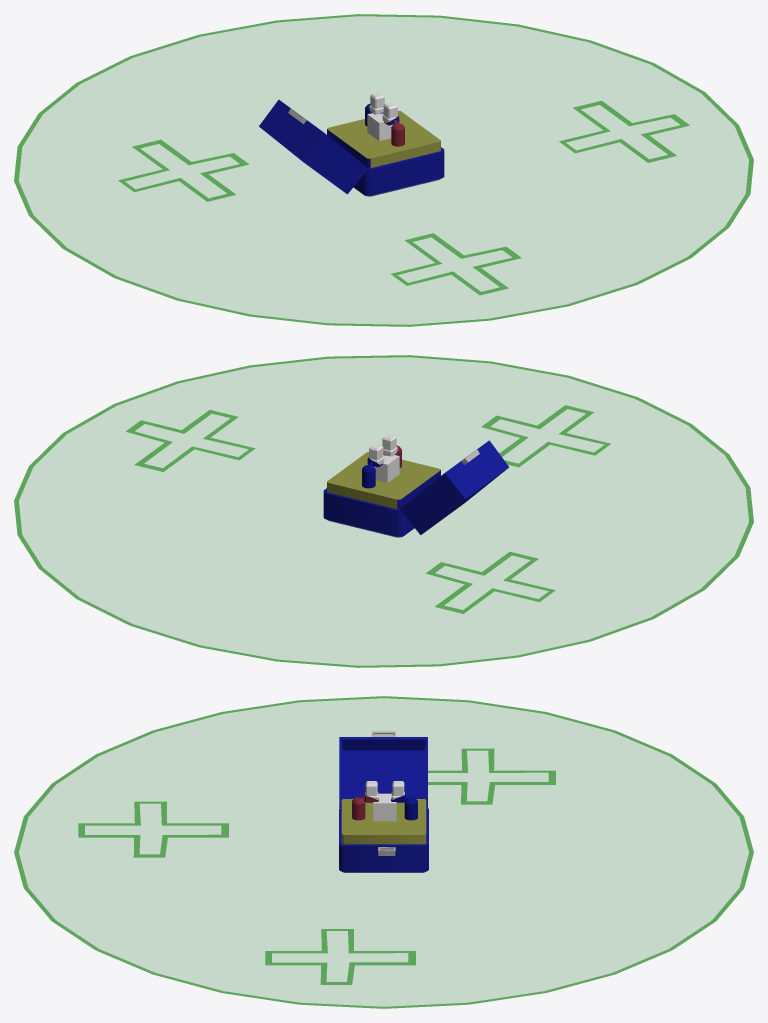
File: 大招血包奶妈.FBX
3 views of the same model, one above another, from view 1: azimuth 30°, elevation 25°; view 2: azimuth 150°, elevation 25°; view 3: azimuth 270°, elevation 25° (orthographic).
Parts seen in each view (by area): view 1: Circle001, Donut001, Box004, 对象005, Box001, Rectangle001, Rectangle003, Rectangle002, Box002; view 2: Circle001, Donut001, Box004, Box001, 对象005, Rectangle001, Rectangle002, Rectangle003, Box002; view 3: Circle001, Donut001, Box004, 对象005, Box001, Rectangle002, Rectangle003, Rectangle001, Box002.
Boxes of the visible parts, x1,y1,x2,y2 form: Circle001: [16, 15, 751, 325]; Donut001: [14, 14, 753, 326]; Box004: [259, 99, 368, 194]; 对象005: [327, 111, 440, 167]; Box001: [327, 129, 444, 196]; Rectangle001: [118, 139, 249, 201]; Rectangle003: [391, 233, 521, 295]; Rectangle002: [559, 100, 689, 162]; Box002: [367, 113, 393, 140]; Circle001: [19, 356, 752, 667]; Donut001: [14, 355, 753, 667]; Box004: [399, 440, 509, 534]; Box001: [323, 470, 440, 537]; 对象005: [327, 452, 440, 508]; Rectangle001: [426, 551, 555, 613]; Rectangle002: [126, 410, 255, 471]; Rectangle003: [481, 405, 610, 467]; Box002: [374, 455, 399, 482]; Circle001: [14, 697, 753, 1008]; Donut001: [14, 696, 753, 1008]; Box004: [339, 737, 427, 807]; 对象005: [341, 799, 426, 844]; Box001: [339, 807, 428, 872]; Rectangle002: [265, 929, 415, 984]; Rectangle003: [78, 801, 228, 857]; Rectangle001: [428, 748, 555, 804]; Box002: [373, 793, 396, 821].
Size of the model in its own units: 178 by 21.39 by 178.
